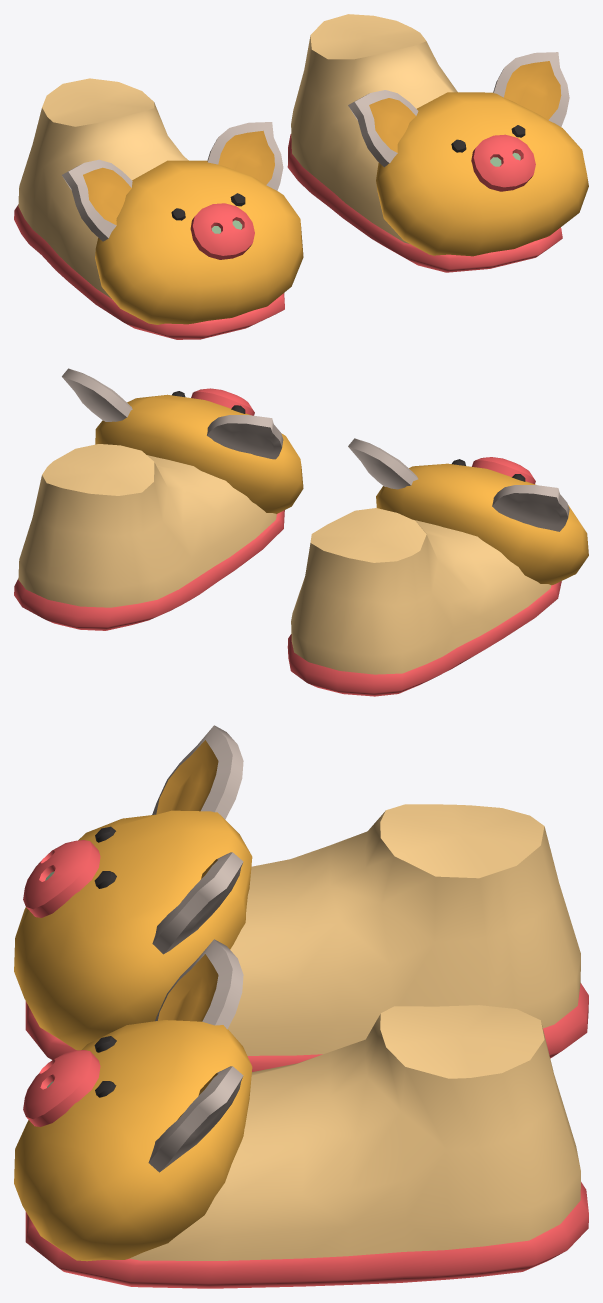
File: Shoes_04_03.fbx
3 views of the same model, one above another, from view 1: azimuth 30°, elevation 25°; view 2: azimuth 150°, elevation 25°; view 3: azimuth 270°, elevation 25° (orthographic). The views are drawn at different scales.
Parts seen in each view (by area): view 1: Shoes_04_03; view 2: Shoes_04_03; view 3: Shoes_04_03.
Part boxes in pixels (x1,y1,x2,y2): Shoes_04_03: (14,14,588,339); Shoes_04_03: (14,368,588,696); Shoes_04_03: (14,725,588,1288).
Bounding box in the file's own units: 31.98 × 9.13 × 20.99.
